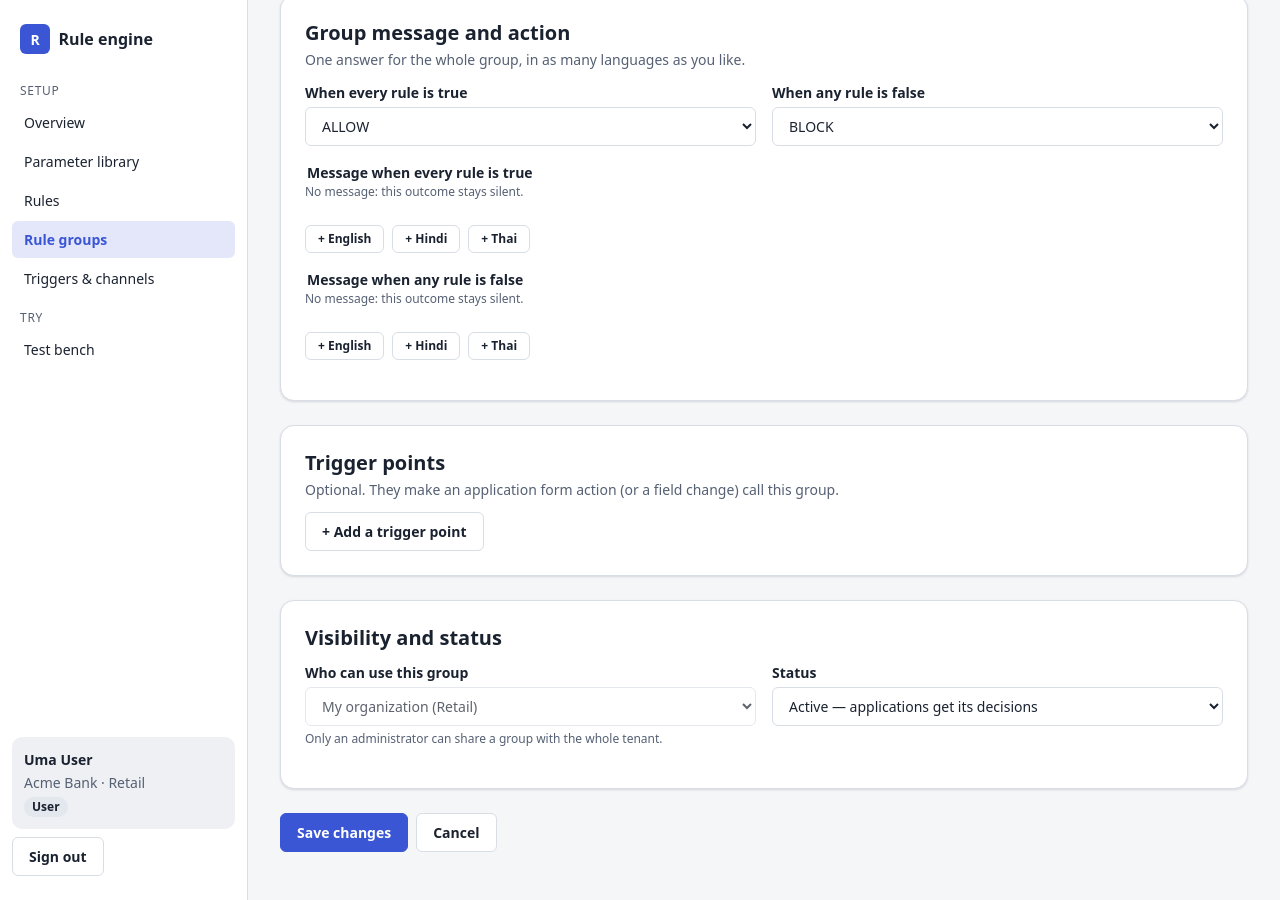
Test case: rule group form › shows the service refusal on the form, and the stale-version conflict when editing
(page scrolled)
Click the button "Save changes". click: x=344, y=833
box: [280, 813, 408, 852]
(page scrolled)
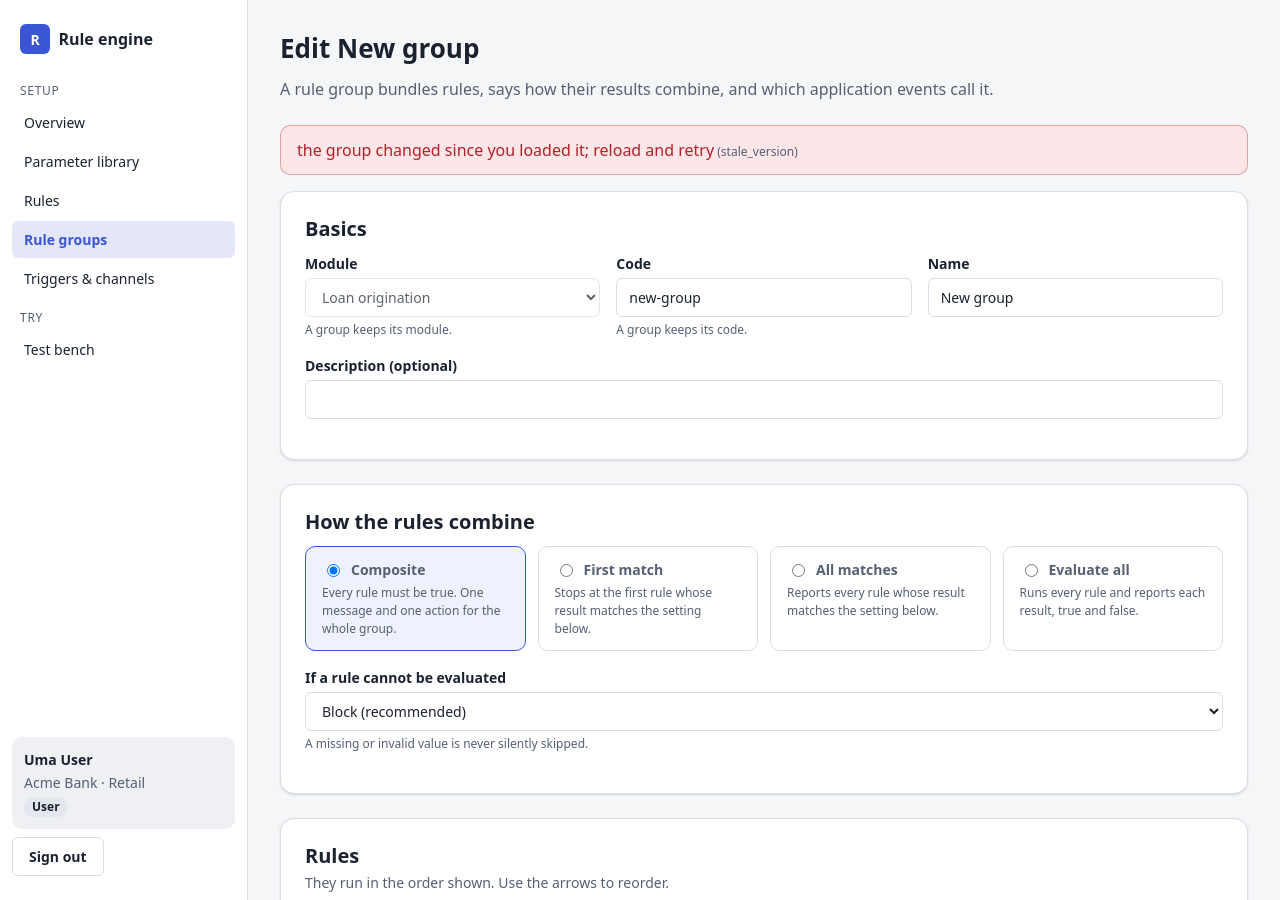
expect the message shows "changed since you loaded it": met, box [297, 138, 714, 160]
